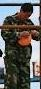boots: (0, 0, 10, 4), (0, 0, 6, 5)
gloves: (0, 43, 4, 53), (0, 46, 3, 56)
hard-hat: (16, 30, 30, 46)
ppe-suit: (0, 0, 21, 45)
